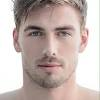no_mask: (10, 1, 90, 90)
